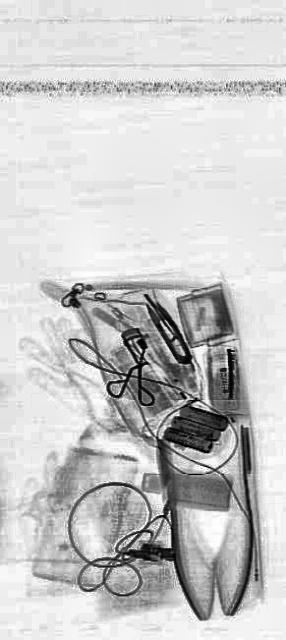Scissors: (146, 288, 192, 372)
